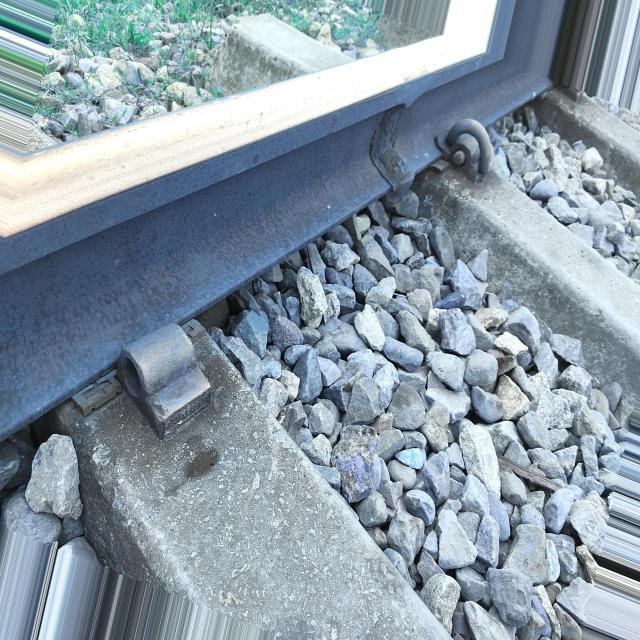Good Fasteners: (431, 101, 509, 197)
Missing Fastener: (86, 299, 251, 465)
